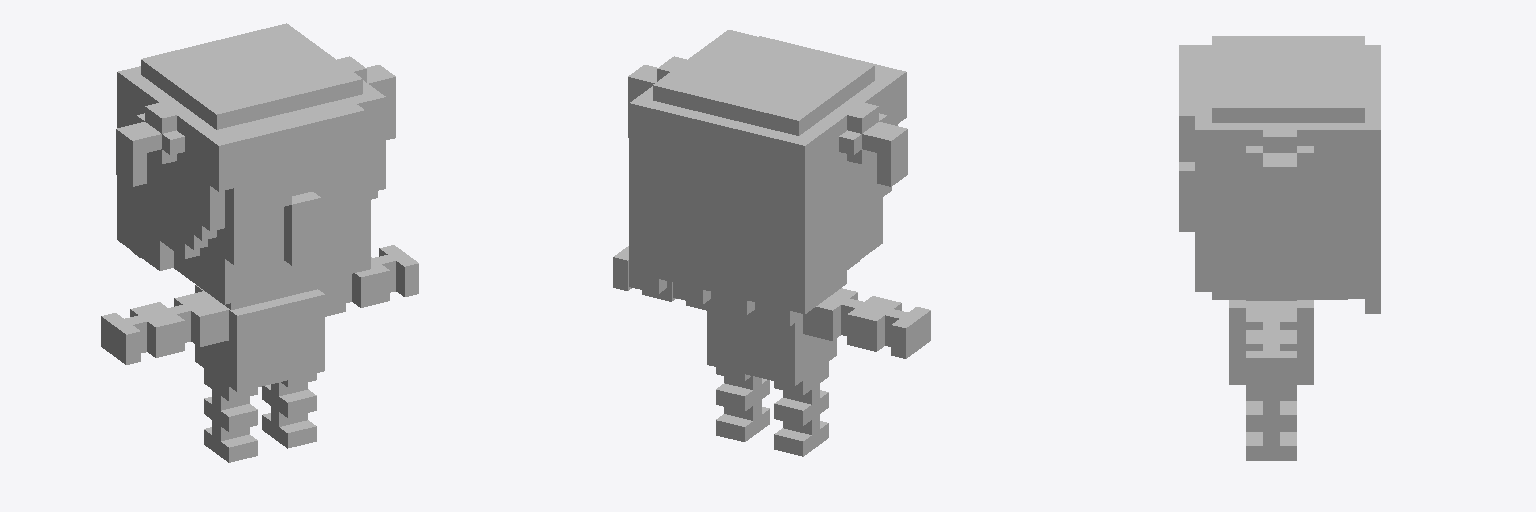
The model's file is Linda (kid).obj.
3 renders of one model, left to right at view 1: azimuth 30°, elevation 25°; view 2: azimuth 150°, elevation 25°; view 3: azimuth 270°, elevation 25°, orthographic.
Visible parts, largest first — view 1: object 1; view 2: object 1; view 3: object 1.
Boxes of the visible parts, x1,y1,x2,y2 form: object 1: [101, 23, 418, 462]; object 1: [613, 30, 930, 456]; object 1: [1179, 36, 1380, 460].
Bounding box in the file's own units: 2 × 2.4 × 1.2.